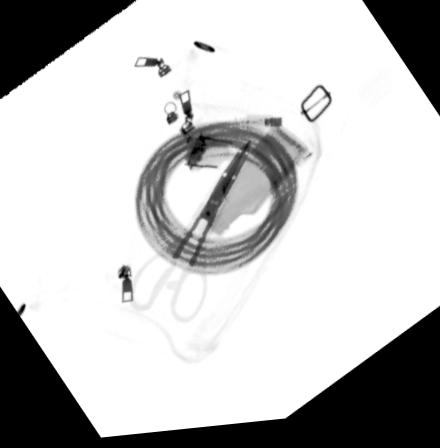Scissors: (124, 143, 251, 329)
